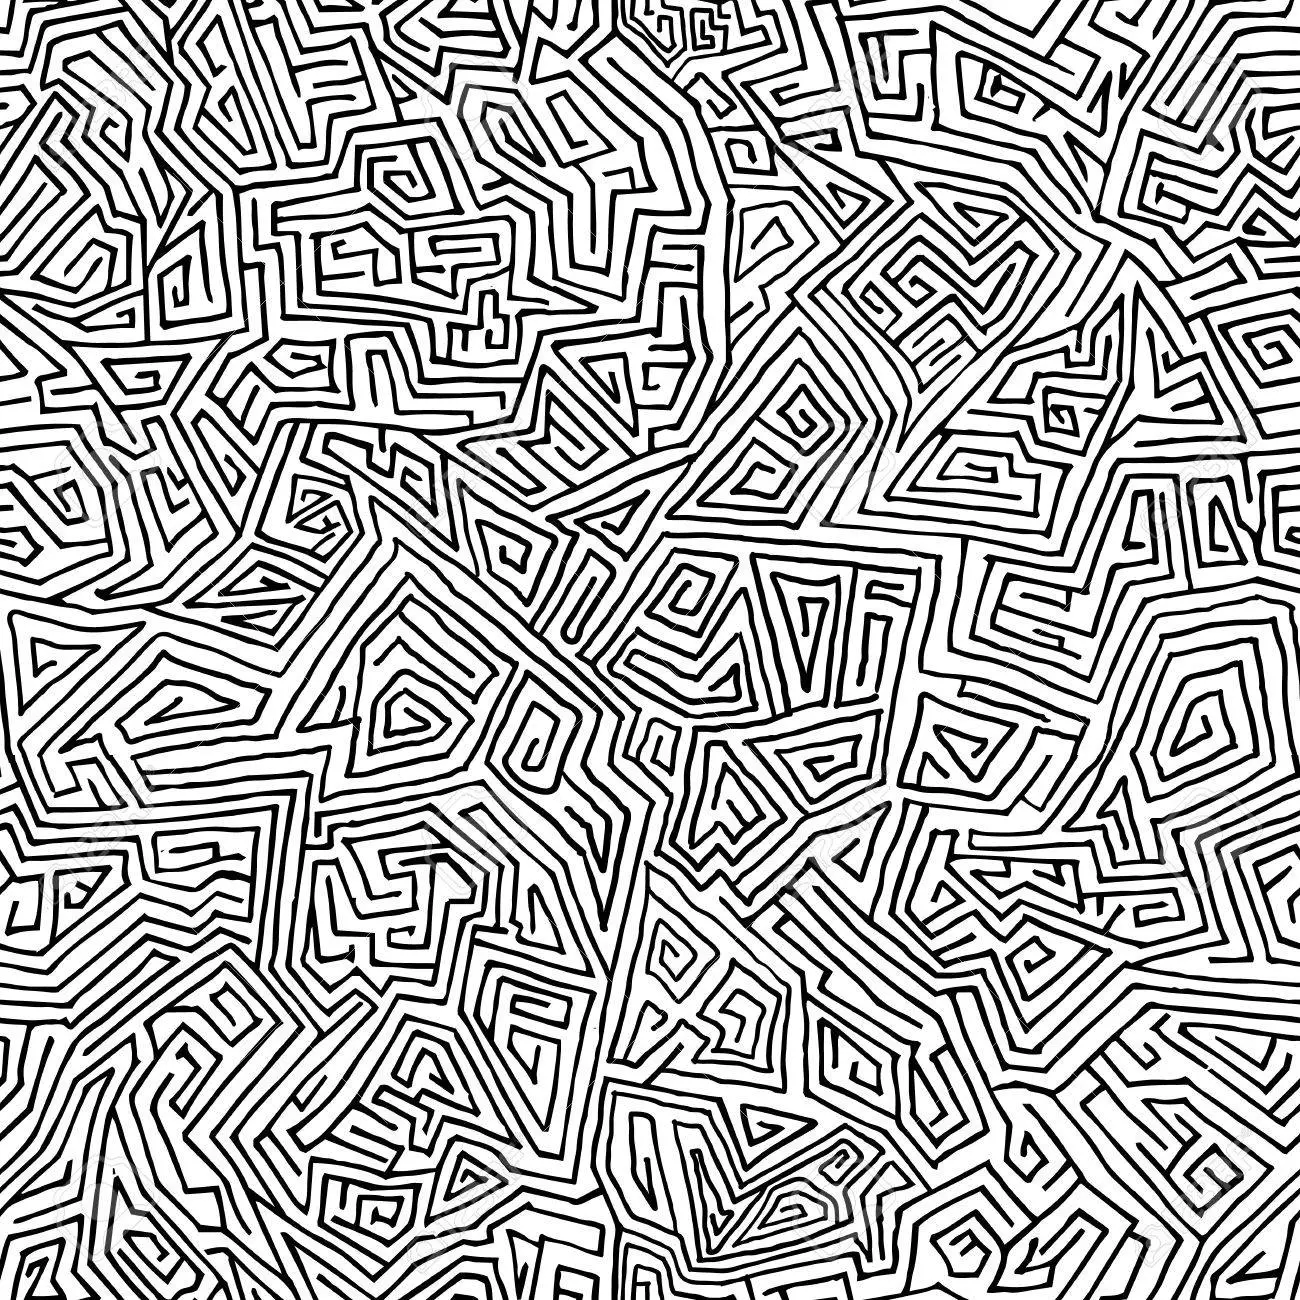maze: (4, 4, 1296, 1296)
